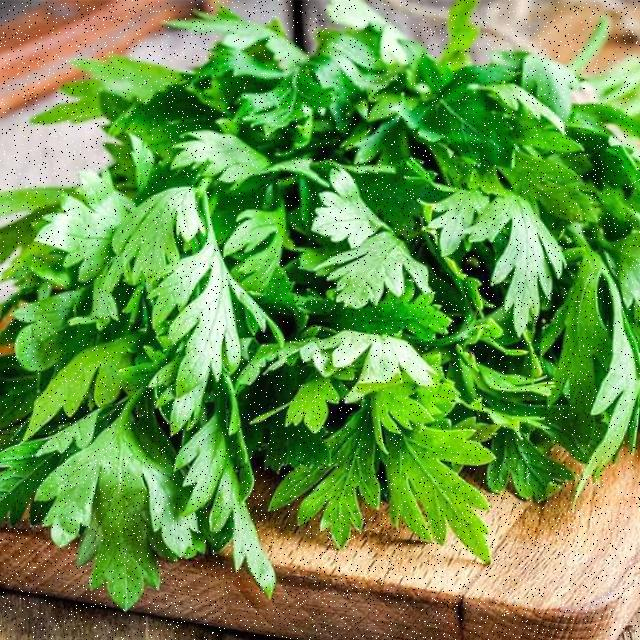Coriander: (19, 33, 613, 592)
